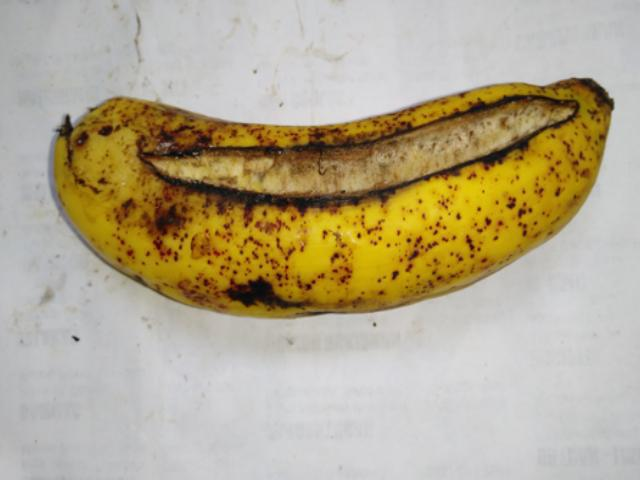rotten: (128, 72, 583, 223)
